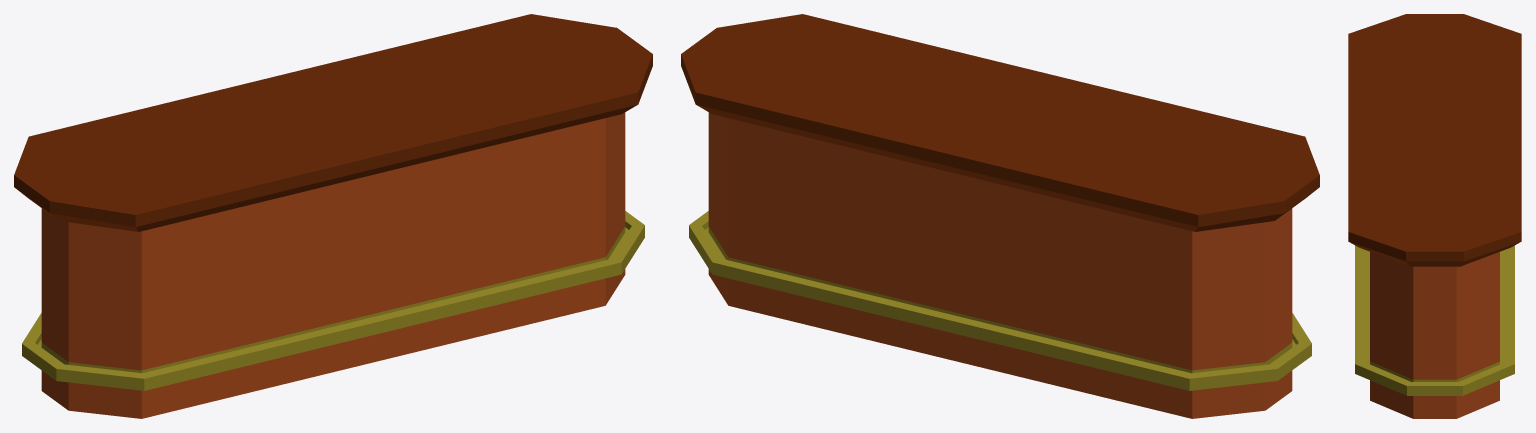
Rendered from bar.fbx.
The picture shows the model from 3 angles, left to right: view 1: azimuth 30°, elevation 25°; view 2: azimuth 150°, elevation 25°; view 3: azimuth 270°, elevation 25°; orthographic projection. The views are drawn at different scales.
Parts seen in each view (by area): view 1: cuboid; view 2: cuboid; view 3: cuboid.
Boxes of the visible parts, x1,y1,x2,y2 form: cuboid: (14,14,652,418); cuboid: (681,14,1319,418); cuboid: (1348,14,1521,418).
Size of the model in its own units: 162 by 56.25 by 50.
1 material, 1 textured.
